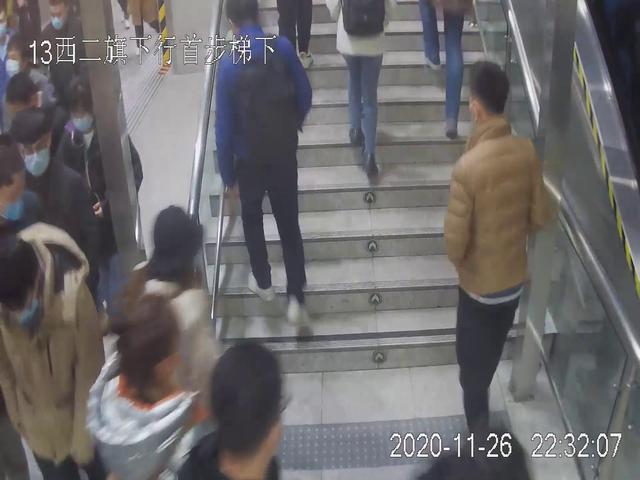person: (443, 59, 551, 438), (208, 1, 322, 329), (1, 212, 110, 480), (326, 1, 393, 185)
